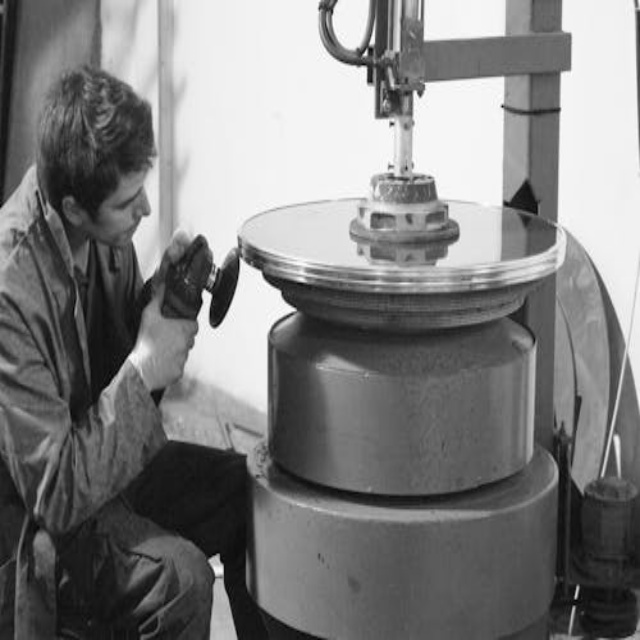Sin_gafas: (109, 182, 148, 213)
Sin_guantes: (131, 297, 198, 397)
Sin_mascara: (108, 213, 145, 254)
